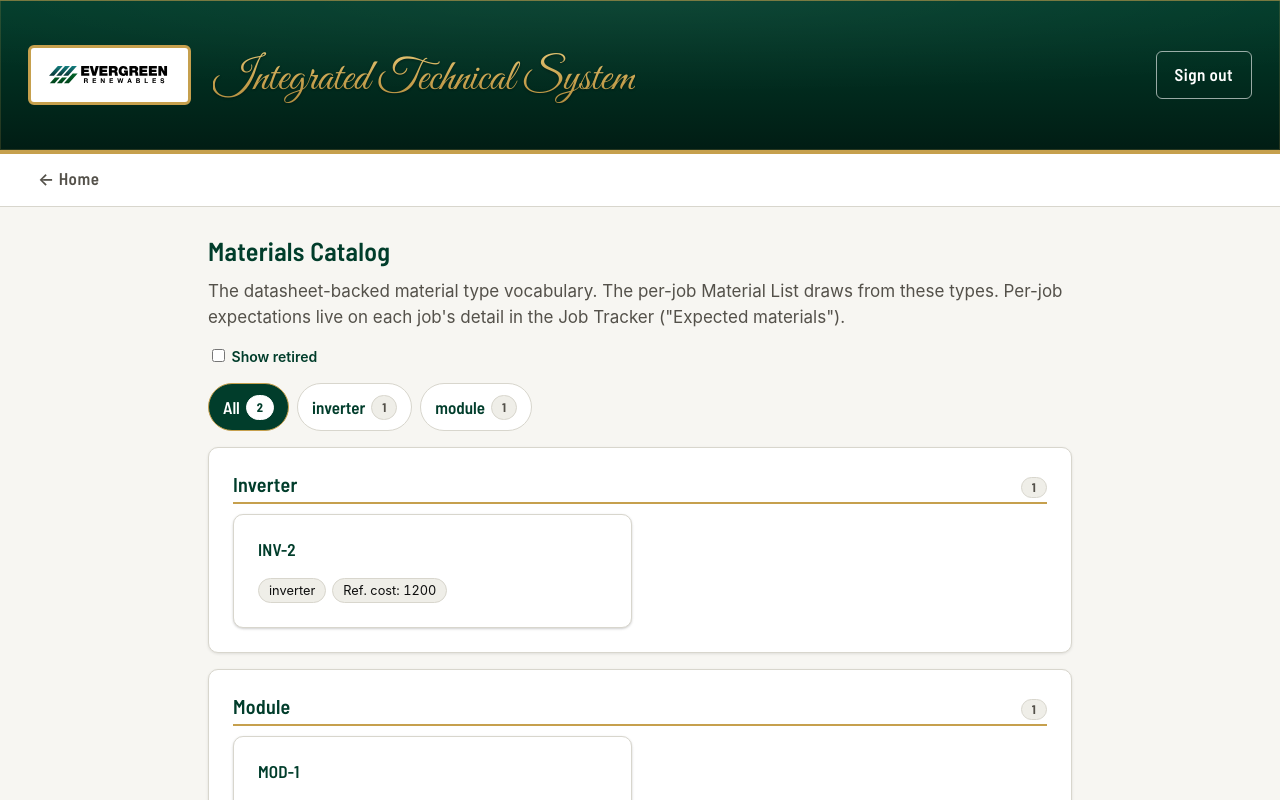
MaterialsCatalogPage › category grouping › the category chip bar filters the view down to one category; the same chip toggles back to All
Expected: the heading "MOD-1" is shown, [258,761,300,782]
Step 1. Click the button "module 1" → (476, 407), box [420,383,532,431]
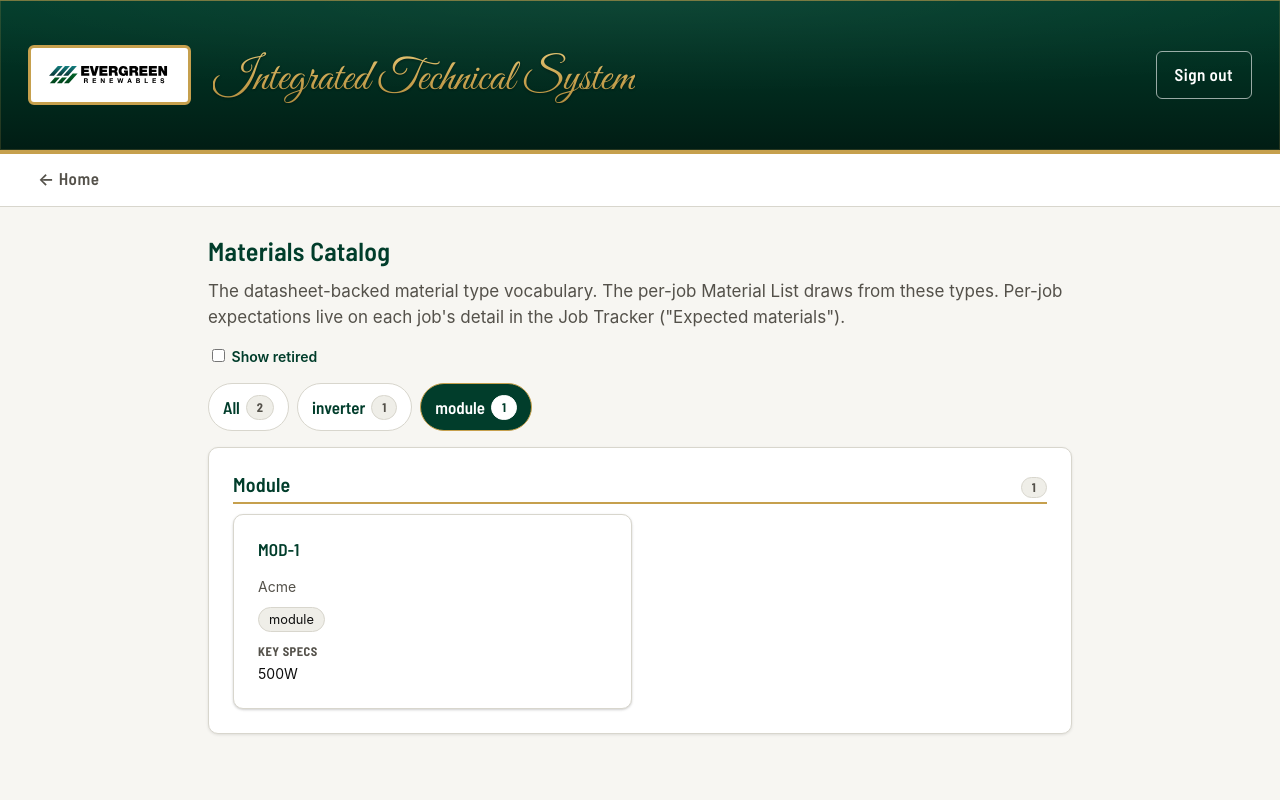
Expected: the heading "MOD-1" is shown, [258,539,300,560]
Expected: the heading "INV-2" is gone
Step 2. Click the button "module 1" → (476, 407), box [420,383,532,431]
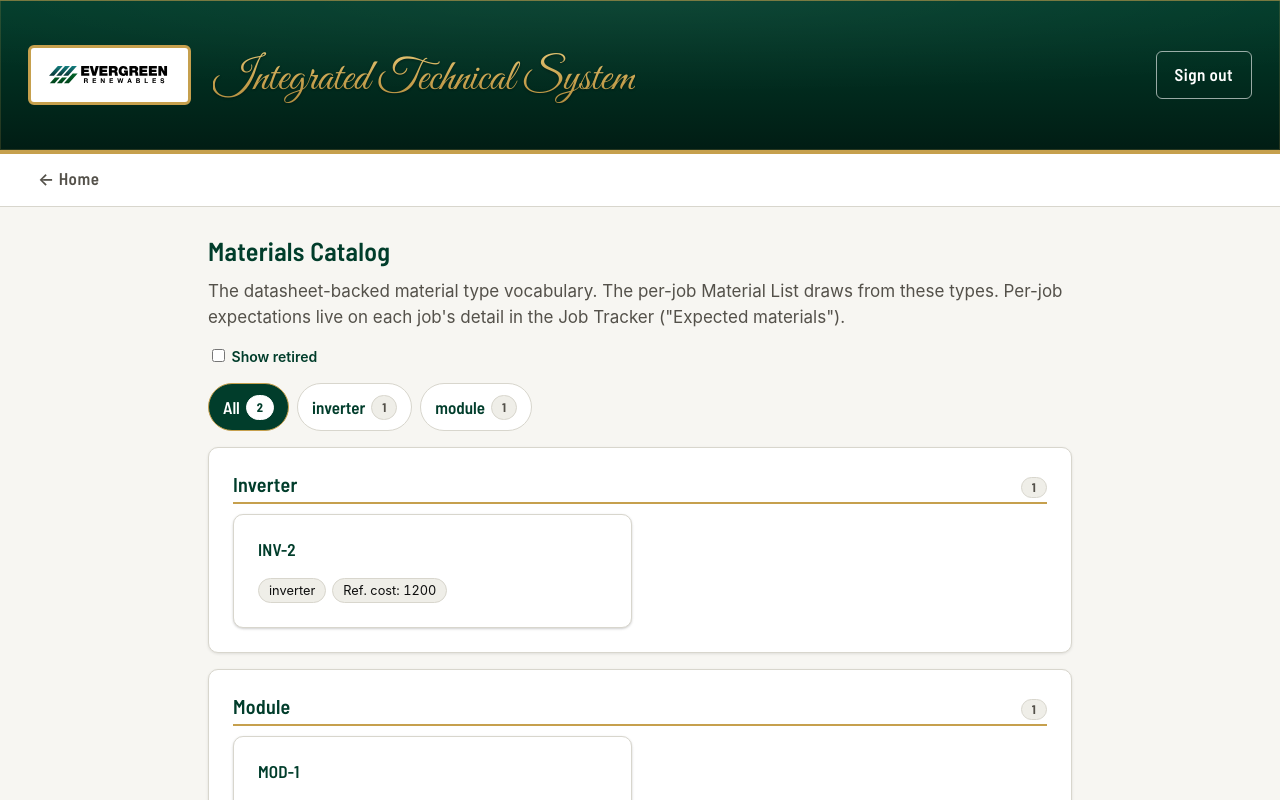
Expected: the heading "INV-2" is shown, [258,539,296,560]
